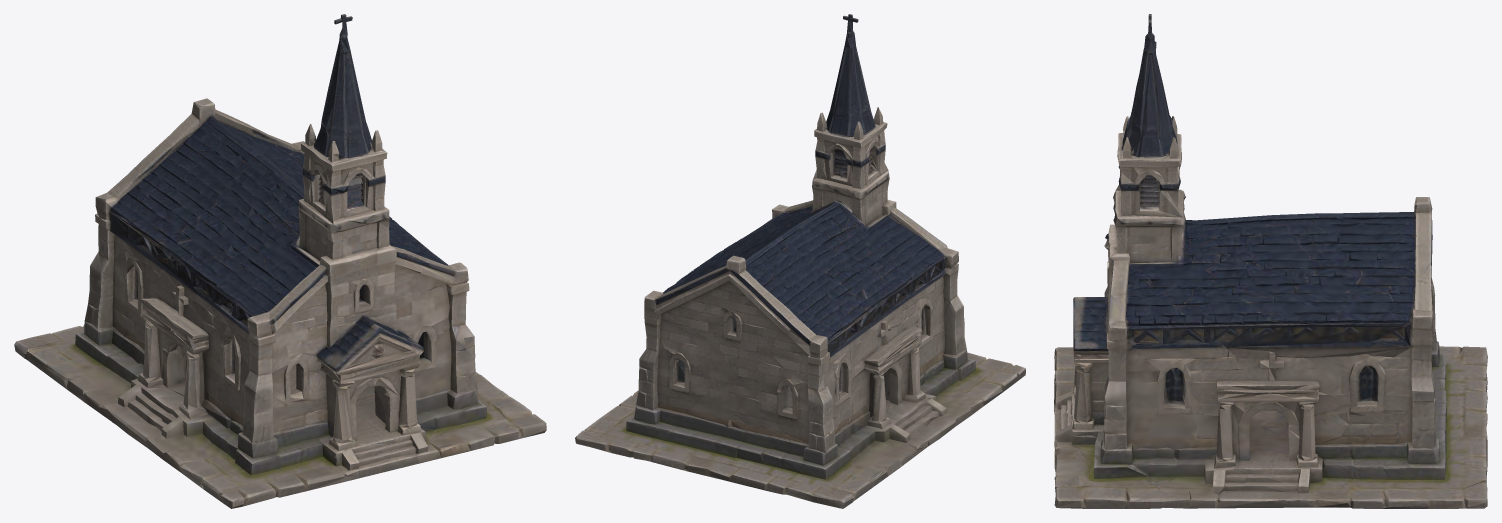
Rendered from temple.glb.
3 renders of one model, left to right at view 1: azimuth 30°, elevation 25°; view 2: azimuth 150°, elevation 25°; view 3: azimuth 270°, elevation 25°, orthographic. The views are drawn at different scales.
Bounding box in the file's own units: 1.51 × 1.9 × 1.79.
1 material, 1 textured.
